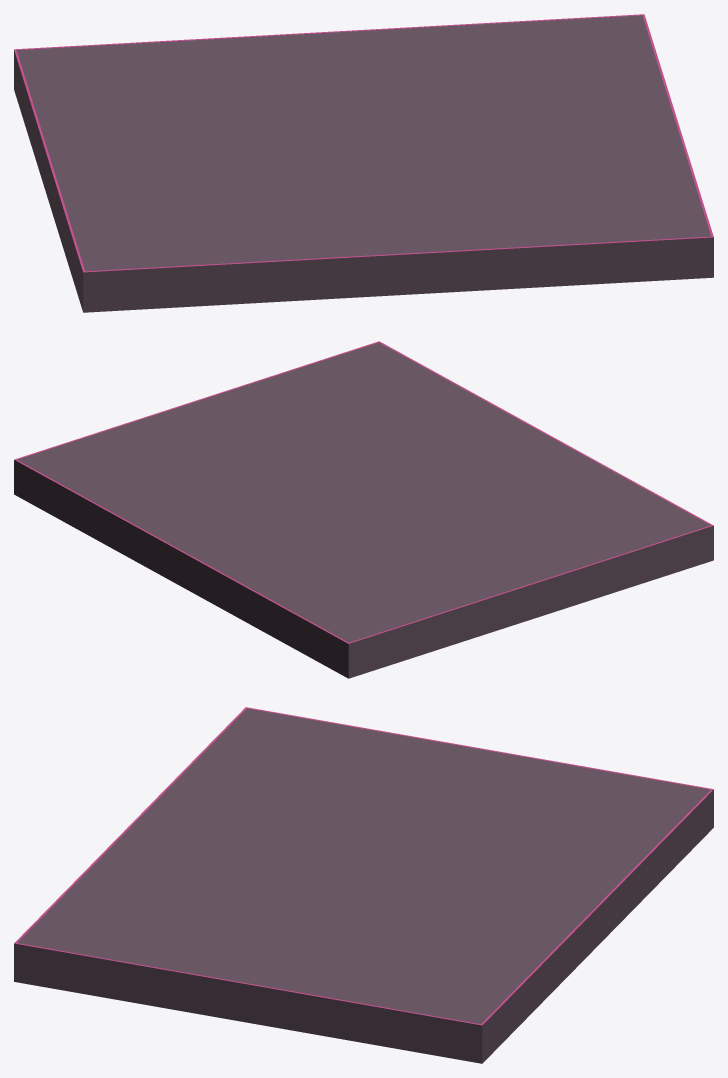
Rendered from way-205657492.glb.
3 renders of one model, top to bottom at view 1: azimuth 30°, elevation 25°; view 2: azimuth 150°, elevation 25°; view 3: azimuth 270°, elevation 25°, orthographic. The views are drawn at different scales.
Parts seen in each view (by area): view 1: way-205657492; view 2: way-205657492; view 3: way-205657492.
Boxes of the visible parts, x1,y1,x2,y2 form: way-205657492: [14, 14, 713, 312]; way-205657492: [14, 341, 713, 678]; way-205657492: [14, 707, 713, 1063].
Size of the model in its own units: 53.4 by 3 by 49.62.
